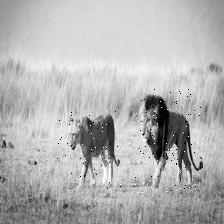Lion: (134, 89, 202, 193), (55, 111, 122, 189)
